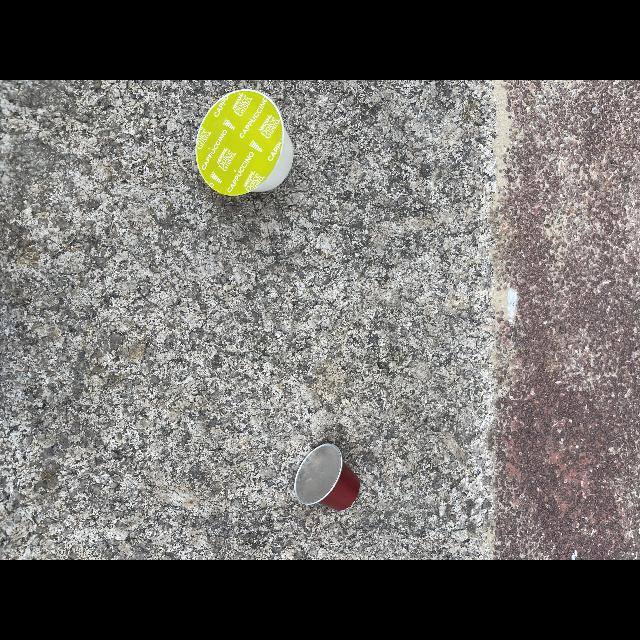intact_capsule: (192, 86, 306, 202), (288, 438, 368, 520)
